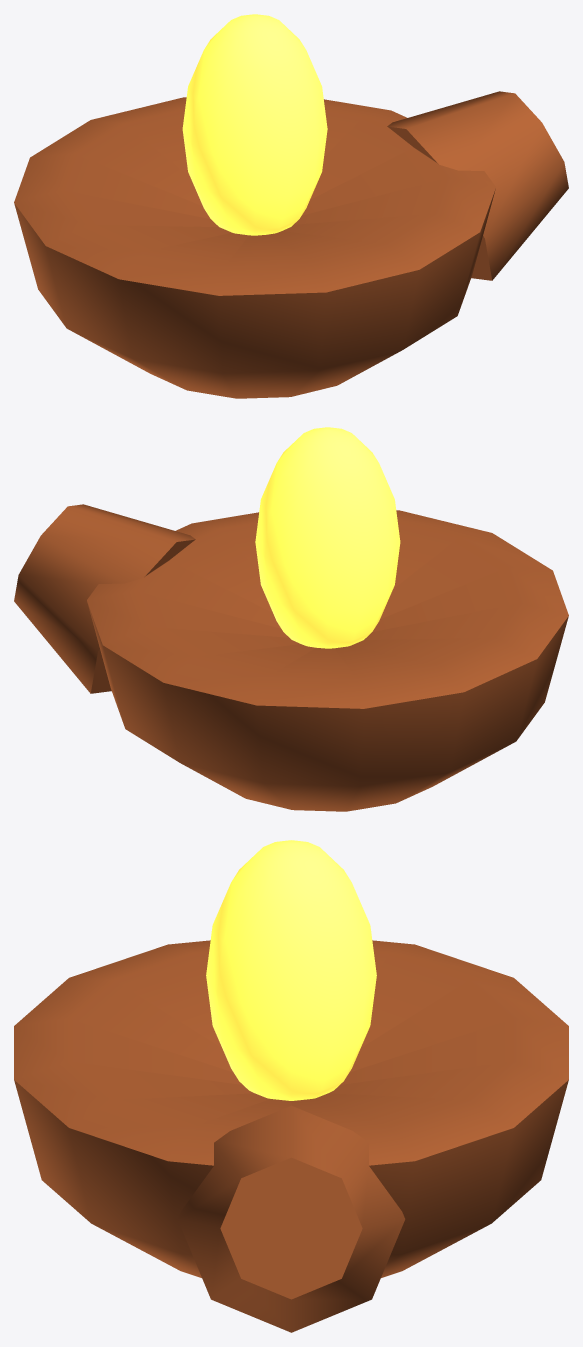
File: diya.glb
3 renders of one model, top to bottom at view 1: azimuth 30°, elevation 25°; view 2: azimuth 150°, elevation 25°; view 3: azimuth 270°, elevation 25°, orthographic. The views are drawn at different scales.
Parts seen in each view (by area): view 1: root; view 2: root; view 3: root.
Boxes of the visible parts, x1,y1,x2,y2 form: root: (14, 14, 568, 398); root: (14, 427, 568, 811); root: (14, 840, 568, 1332).
Bounding box in the file's own units: 0.2424 × 0.151 × 0.195.
